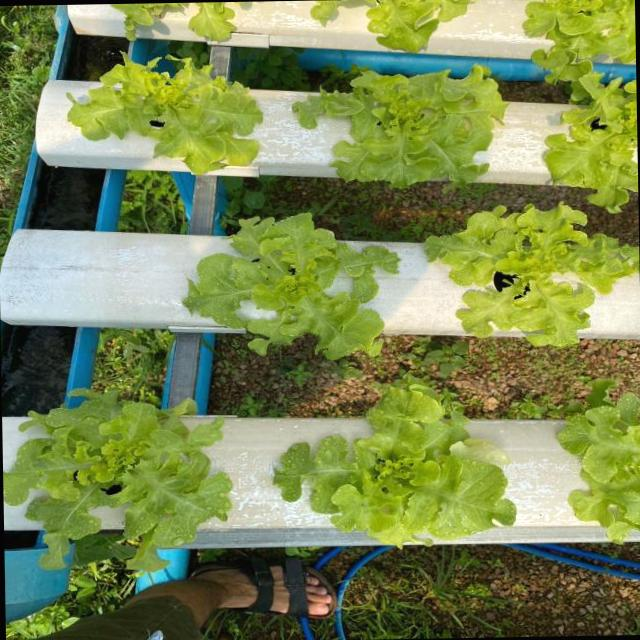Lettuce-Not-Ready-to-Harvest: (3, 392, 230, 567), (274, 382, 516, 544), (183, 213, 398, 359), (426, 203, 639, 346), (292, 67, 506, 187), (67, 57, 263, 174), (557, 380, 640, 542), (545, 71, 638, 212), (525, 0, 636, 80)
